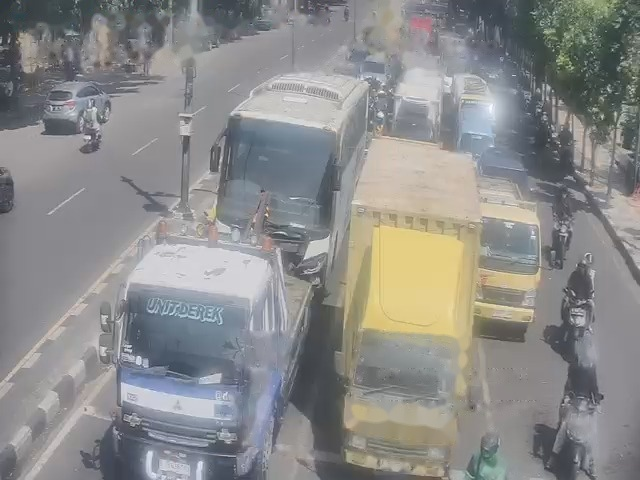Bis: (210, 72, 367, 289), (391, 67, 440, 142)
Motor: (563, 288, 591, 355), (563, 395, 591, 448)
Truk: (98, 193, 313, 479), (334, 138, 482, 479), (475, 176, 541, 339), (451, 73, 494, 119)
